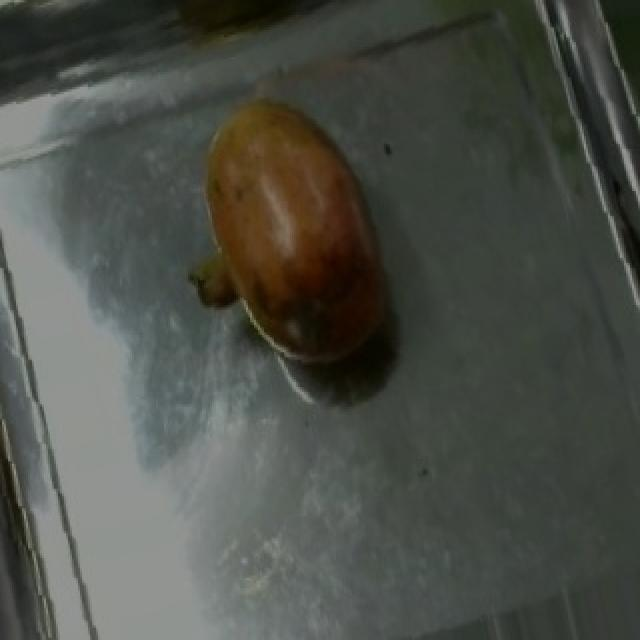fruit: (168, 72, 414, 382)
